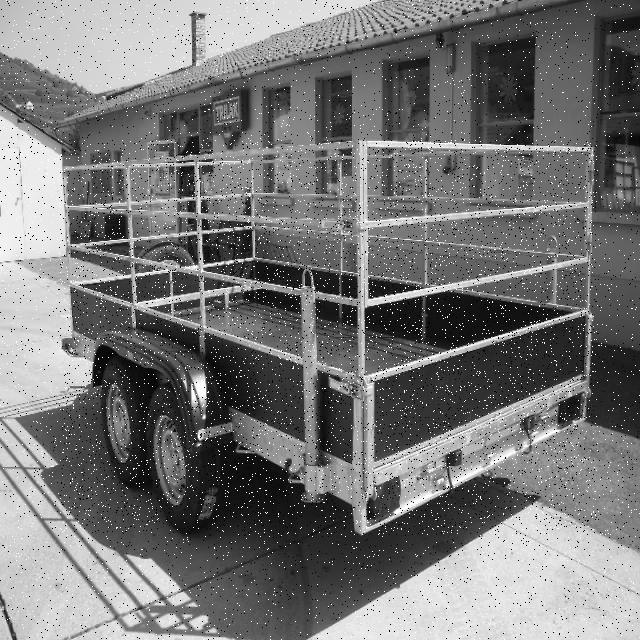Box Truck: (60, 140, 597, 535)
